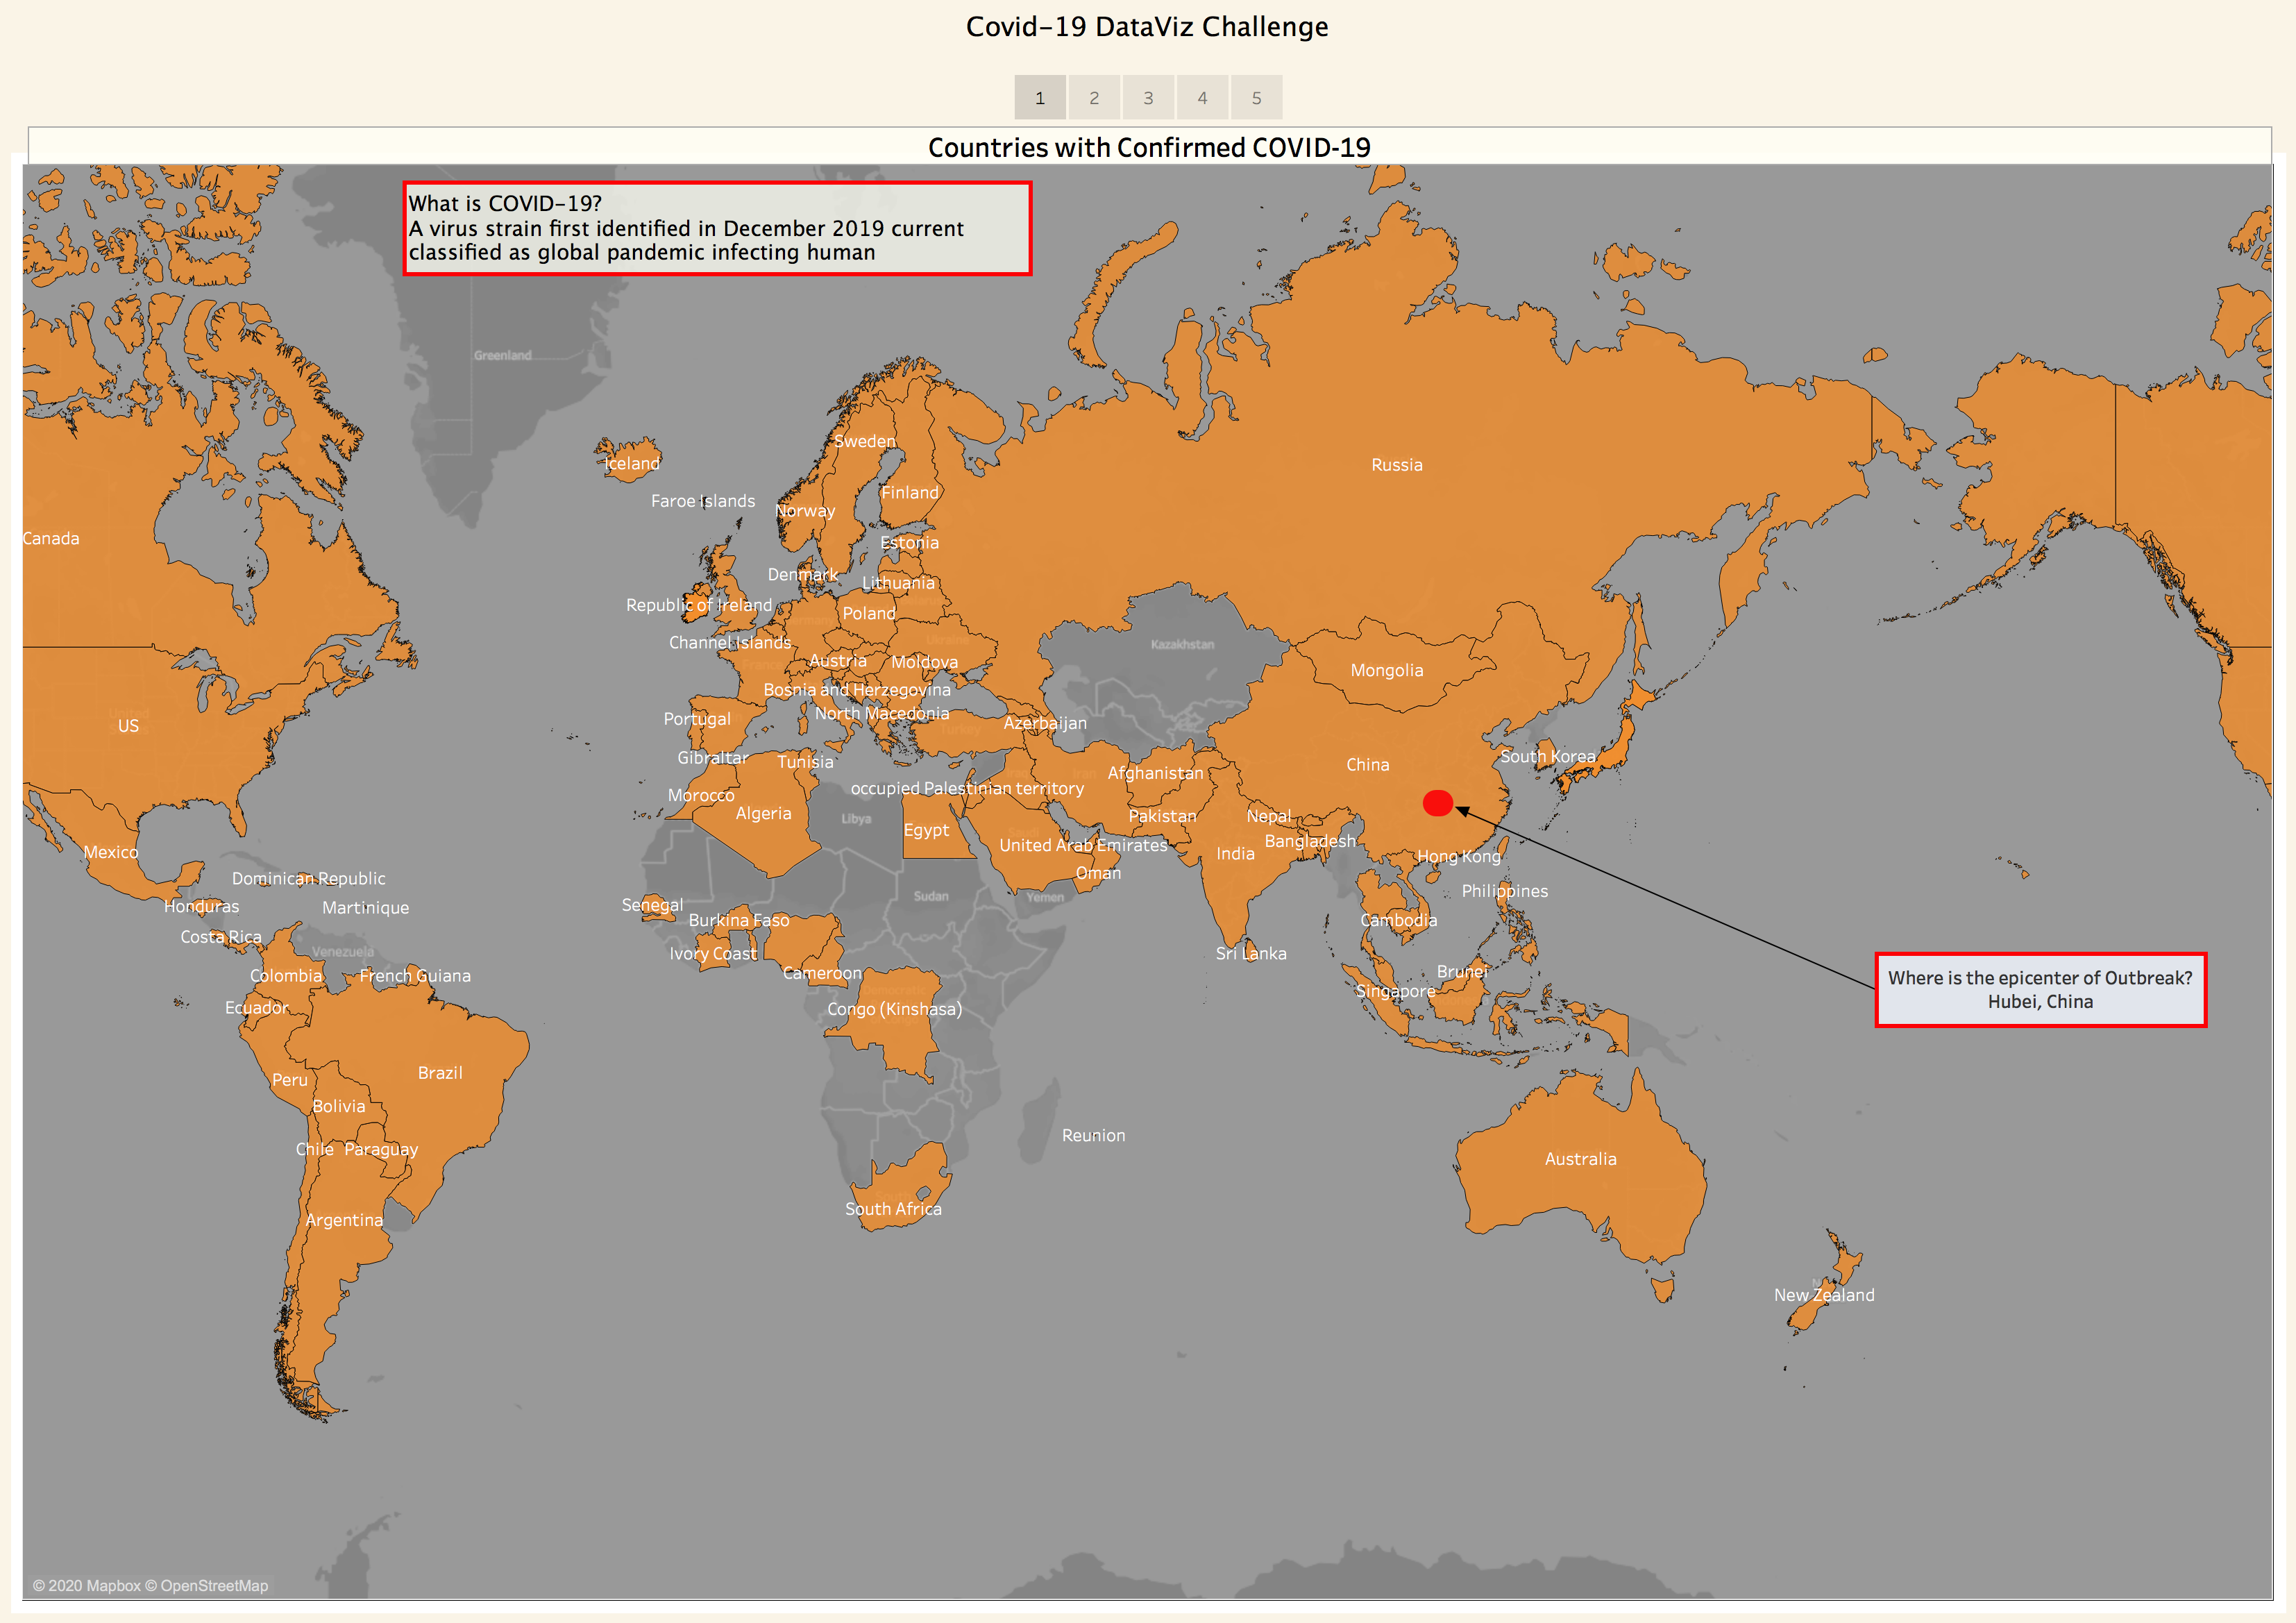

The dashboard page shown, as its layout file describes it:
{"tool":"tableau","page":{"name":"Dashboard 1","canvas":[1000,800],"ordinal":0},"visuals":[{"type":"worksheet","title":"Overall_Spread","mark":"Multipolygon","box":[8,8,984,392]},{"type":"image","box":[8,400,984,392]}]}

Visuals, with their boxes on the page's 1000x800 design canvas (x1, y1, x2, y2). These are canvas units, not pixel positions in the 2296x1623 screenshot, which may show the page scaled, cropped or inside an application window:
"Overall_Spread" worksheet (Multipolygon marks): locate(8, 8, 992, 400)
image: locate(8, 400, 992, 792)
